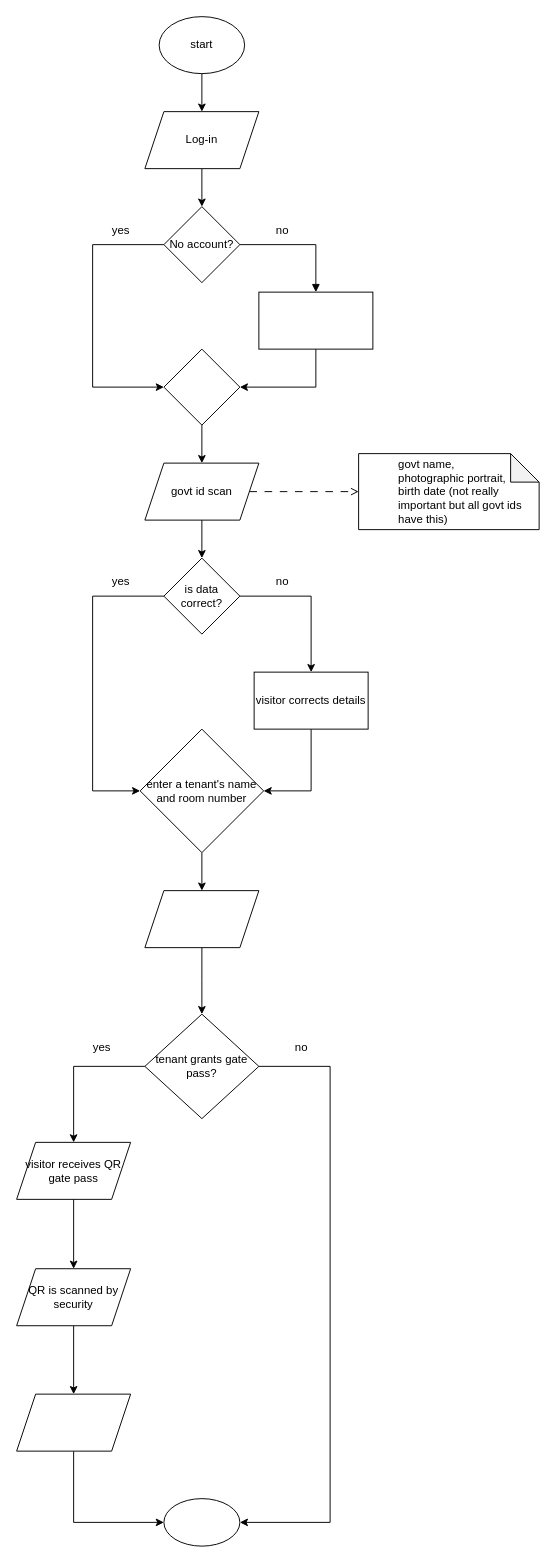
Image size: 556x1563. Some labels were removed from this diagram. Here are the shapes that lost their labels. From the top down, the box of each, then its label:
(258, 291, 373, 349): create account
(163, 348, 240, 425): enter main menu
(144, 890, 259, 948): input tenant's room number and name
(16, 1393, 131, 1451): Rescan marks visitor exit
(163, 1498, 240, 1546): end
